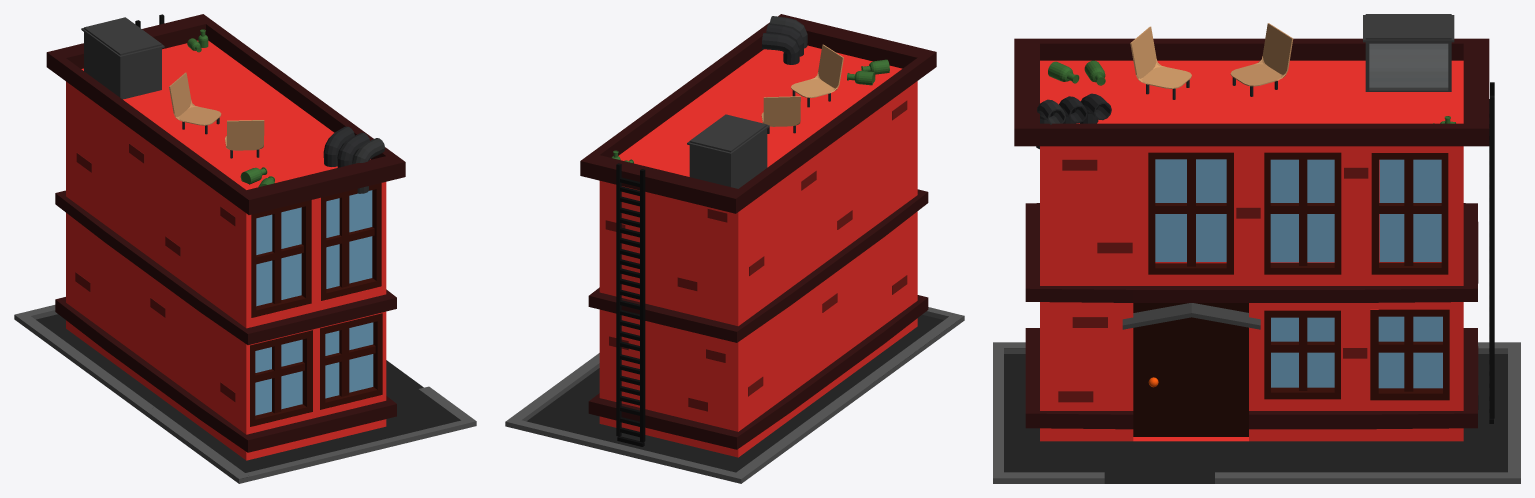
The model's file is house_100.obj.
The picture shows the model from 3 angles, left to right: view 1: azimuth 30°, elevation 25°; view 2: azimuth 150°, elevation 25°; view 3: azimuth 270°, elevation 25°; orthographic projection. The views are drawn at different scales.
Parts seen in each view (by area): view 1: Cube_Cube.303, Plane.040_Plane.021, Cube.255_Cube.299, Plane.026_Plane.007, Plane.016_Plane.001, Plane.037_Plane.018, Plane.041_Plane.032, Plane.038_Plane.019; view 2: Cube_Cube.303, Plane.040_Plane.021, Cube.255_Cube.299, Cube.253_Cube.297, Cube.254_Cube.298, Plane.016_Plane.001, Plane.026_Plane.007, Plane.037_Plane.018; view 3: Cube_Cube.303, Plane.040_Plane.021, Cube.255_Cube.299, Plane.039_Plane.020, Plane.026_Plane.007, Plane.016_Plane.001, Cube.254_Cube.298, Plane.037_Plane.018, Plane.041_Plane.032, Plane.038_Plane.019.
Boxes of the visible parts, box(x1,y1,x2,y2) form: Cube_Cube.303: box(46, 14, 405, 460); Plane.040_Plane.021: box(14, 305, 476, 483); Cube.255_Cube.299: box(81, 17, 164, 99); Plane.026_Plane.007: box(169, 72, 221, 125); Plane.016_Plane.001: box(225, 120, 264, 150); Plane.037_Plane.018: box(323, 126, 354, 166); Plane.041_Plane.032: box(352, 138, 384, 193); Plane.038_Plane.019: box(337, 132, 369, 167); Cube_Cube.303: box(580, 14, 936, 457); Plane.040_Plane.021: box(505, 307, 964, 483); Cube.255_Cube.299: box(687, 114, 769, 188); Cube.253_Cube.297: box(640, 169, 645, 442); Cube.254_Cube.298: box(616, 163, 621, 436); Plane.016_Plane.001: box(791, 44, 843, 97); Plane.026_Plane.007: box(761, 96, 800, 126); Plane.037_Plane.018: box(762, 33, 799, 64); Cube_Cube.303: box(1014, 38, 1489, 441); Plane.040_Plane.021: box(993, 342, 1520, 483); Cube.255_Cube.299: box(1363, 14, 1454, 91); Plane.039_Plane.020: box(1122, 303, 1260, 329); Plane.026_Plane.007: box(1230, 23, 1293, 86); Plane.016_Plane.001: box(1130, 26, 1191, 88); Cube.254_Cube.298: box(1490, 95, 1494, 418); Plane.037_Plane.018: box(1080, 93, 1111, 123); Plane.041_Plane.032: box(1036, 99, 1065, 149); Plane.038_Plane.019: box(1059, 96, 1087, 123).
Size of the model in its own units: 3.4 by 4.16 by 5.57.
